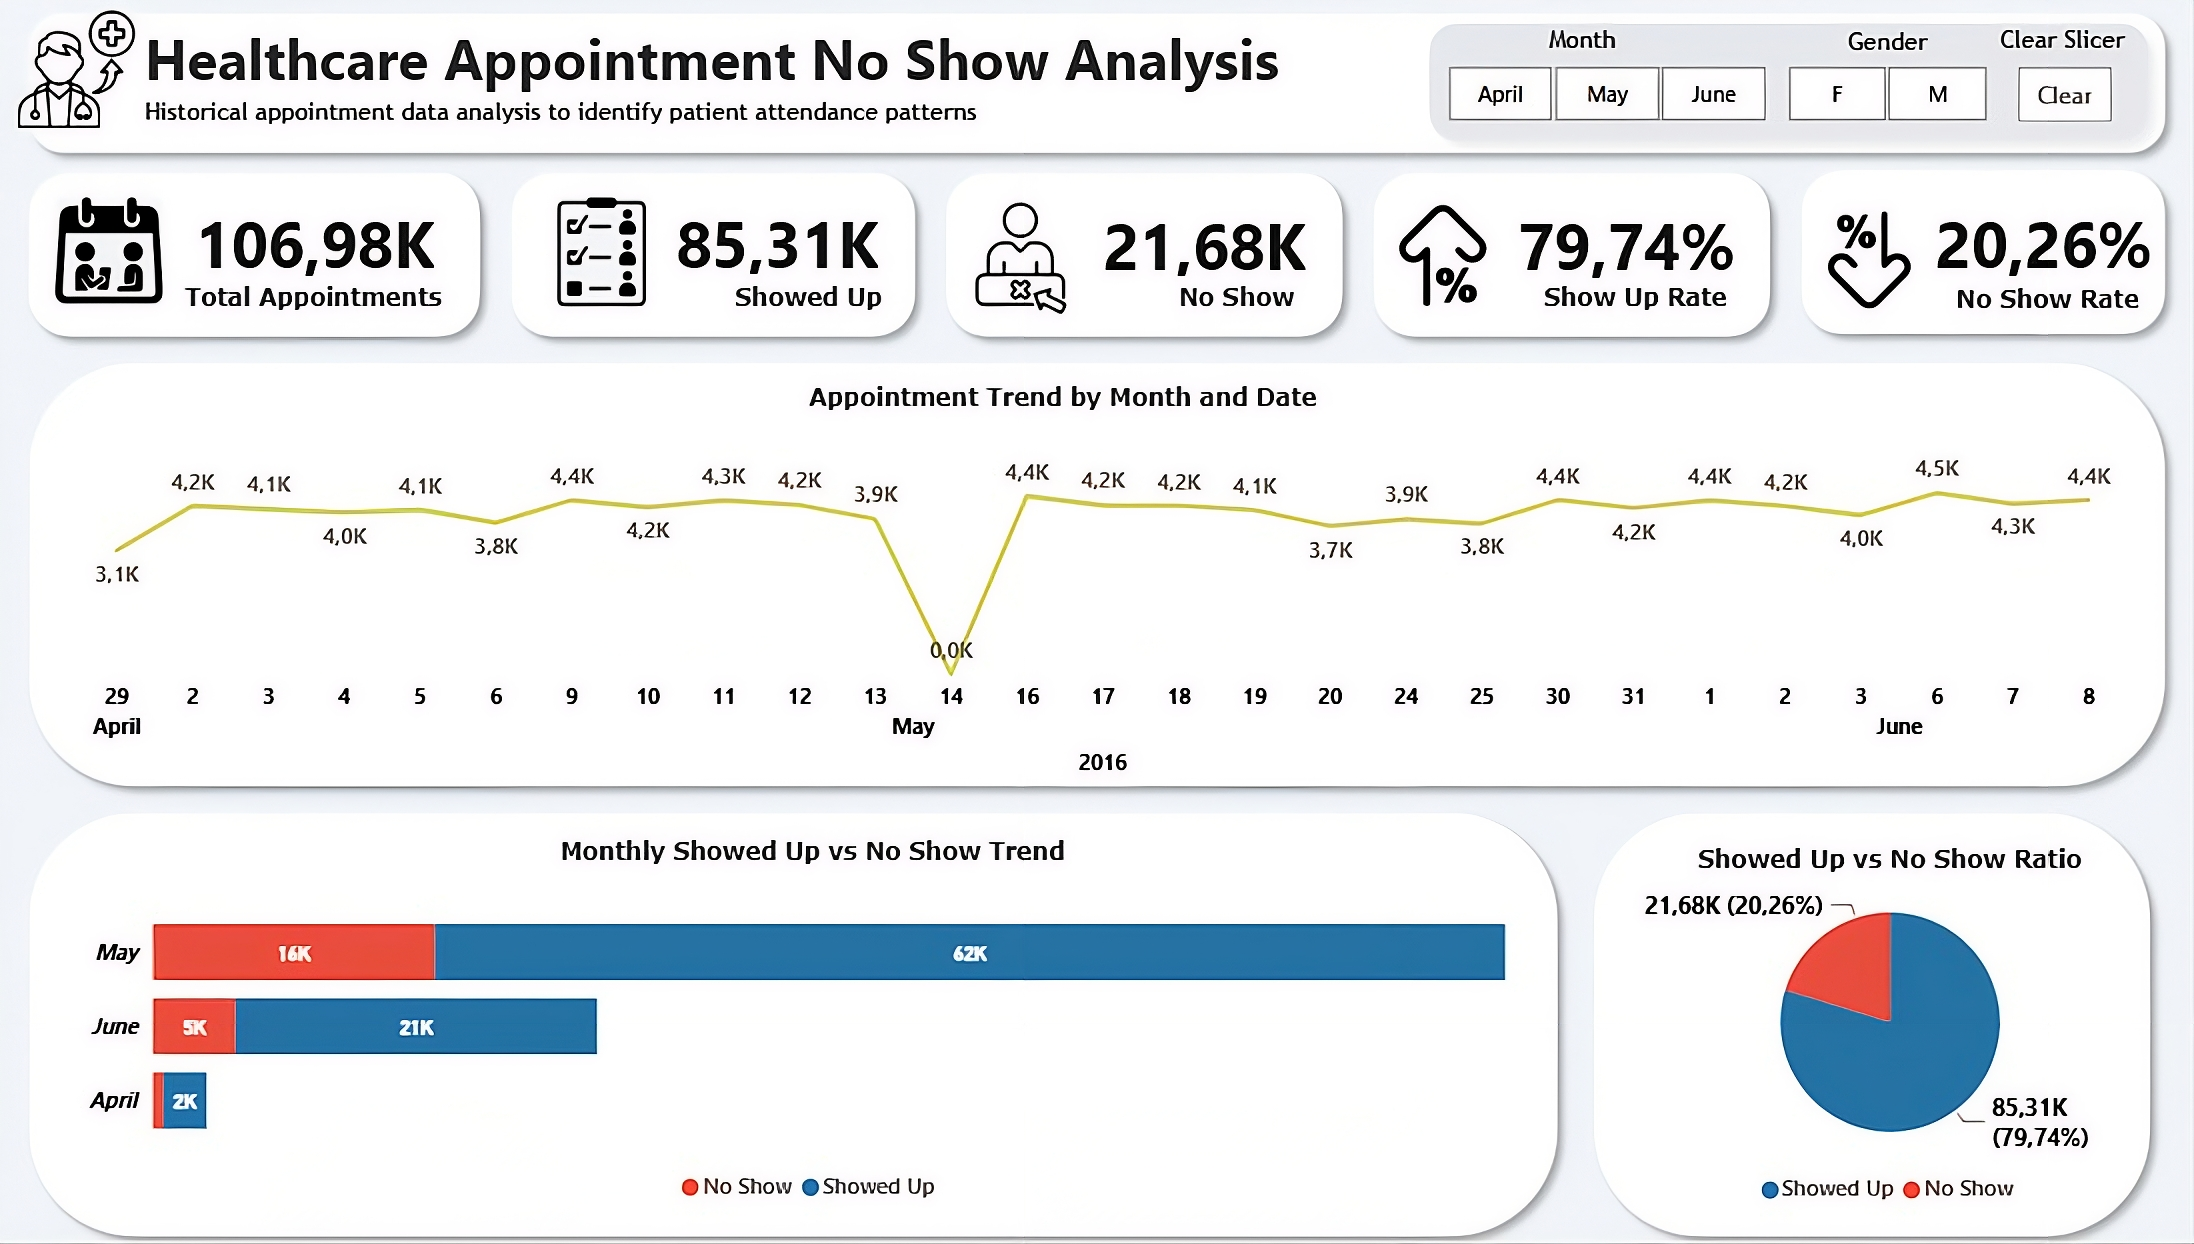

The page's visual inventory and layout, read from the dashboard file:
{"tool":"powerbi","page":{"name":"Executive Overview","canvas":[1280,720],"ordinal":0},"visuals":[{"type":"shape","title":"Shape Title","box":[14.7,2.4,1238.7,97.8],"z":0},{"type":"shape","title":"Chart Shape","box":[14.3,460,891.4,260],"z":1000},{"type":"shape","title":"Showedup shape","box":[782.9,94.3,244.3,111.4],"z":2000},{"type":"shape","title":"Dinut Shape","box":[908.6,460,335.7,260],"z":3000},{"type":"shape","title":"Total Showedup Shape","box":[290,94.3,248.6,111.4],"z":4000},{"type":"shape","title":"No ShowShape","box":[1027.1,92.9,225.7,111.4],"z":5000},{"type":"shape","title":"No Show Shape","box":[538.6,94.3,244.3,111.4],"z":6000},{"type":"shape","title":"Total Appointm Shape","box":[14.3,94.3,275.7,111.4],"z":7000},{"type":"shape","title":"Line Shape","box":[14.3,202.9,1238.6,260],"z":8000},{"type":"cardVisual","title":"Total Appointment","fields":{"Data":["CountNonNull(healthcare_appointment healthcare_noshows_clean.appointmentday)"]},"box":[30,94.3,254.3,94.3],"z":9000},{"type":"cardVisual","fields":{"Data":["CountNonNull(healthcare_appointment healthcare_noshows_clean.showedup)"]},"box":[355.7,104.3,182.9,74.3],"z":10000},{"type":"cardVisual","fields":{"Data":["CountNonNull(healthcare_appointment healthcare_noshows_clean.showedup)"]},"box":[600,105.7,182.9,74.3],"z":11000},{"type":"cardVisual","fields":{"Data":["healthcare_appointment healthcare_noshows_clean.Show-Up Rate"]},"box":[840,100,187.1,85.7],"z":12000},{"type":"cardVisual","fields":{"Data":["healthcare_appointment healthcare_noshows_clean.No Show Rate"]},"box":[1071.4,92.9,194.3,97.1],"z":13000},{"type":"lineChart","title":"Appointment Trend by Month and Date","fields":{"Y":["CountNonNull(healthcare_appointment healthcare_noshows_clean.PatientId)"],"Category":["healthcare_appointment healthcare_noshows_clean.appointmentday.Variation.Date Hierarchy.Year","healthcare_appointment healthcare_noshows_clean.appointmentday.Variation.Date Hierarchy.Month","healthcare_appointment healthcare_noshows_clean.appointmentday.Variation.Date Hierarchy.Day"]},"box":[51.4,238.6,1171.4,224.3],"z":14000},{"type":"pieChart","title":"Showed Up vs No Show Ratio","fields":{"Category":["healthcare_appointment healthcare_noshows_clean.showedup"],"Y":["CountNonNull(healthcare_appointment healthcare_noshows_clean.showedup)"]},"box":[908.6,502.9,357.1,200],"z":15000},{"type":"barChart","title":"Monthly Patient Attendance vs No Show Trend by Month and showedup","fields":{"Category":["healthcare_appointment healthcare_noshows_clean.appointmentday.Variation.Date Hierarchy.Month"],"Series":["healthcare_appointment healthcare_noshows_clean.showedup"],"Y":["CountNonNull(healthcare_appointment healthcare_noshows_clean.AppointmentID)"]},"box":[51.4,502.9,838.6,198.6],"z":16000},{"type":"textbox","box":[84.4,11,666.4,77],"z":17000},{"type":"image","box":[0,4.9,99,85.6],"z":18000},{"type":"image","box":[35.7,117.1,65.7,61.4],"z":19000},{"type":"shape","title":"slicer","box":[814.1,8.1,429.9,86],"z":20000},{"type":"textbox","title":"Text Totalapointment","box":[84.3,160,180,42.9],"z":21000},{"type":"image","box":[308.6,114.3,84.3,68.6],"z":22000},{"type":"textbox","title":"Texr Showed up","box":[398.6,160,117.1,30],"z":23000},{"type":"textbox","title":"Texr Showed up","box":[634.3,160,117.1,28.6],"z":24000},{"type":"image","box":[544.3,117.1,90,70],"z":25000},{"type":"image","box":[785.7,115.7,88.6,72.9],"z":26000},{"type":"textbox","title":"Texr Showed up","box":[881.4,160,117.1,28.6],"z":27000},{"type":"textbox","title":"Texr Showed up","box":[1117.1,161.4,117.1,28.6],"z":28000},{"type":"image","box":[1027.1,114.3,90,70],"z":29000},{"type":"textbox","title":"Text Totalapointment","box":[460,217.1,304.3,42.9],"z":30000},{"type":"textbox","title":"Text Totalapointment","box":[971.4,481.4,230,42.9],"z":31000},{"type":"textbox","title":"Text Totalapointment","box":[182.5,477.5,576.2,42.5],"z":32000},{"type":"slicer","fields":{"Values":["healthcare_appointment healthcare_noshows_clean.Gender"]},"box":[1002.9,35.7,162.9,44.3],"z":33000},{"type":"textbox","title":"Text Totalapointment","box":[1040.7,13.6,87.9,36.4],"z":34000},{"type":"textbox","title":"Text Totalapointment","box":[869.2,13.4,84.6,37.6],"z":35000},{"type":"slicer","fields":{"Values":["healthcare_appointment healthcare_noshows_clean.appointmentday.Variation.Date Hierarchy.Month"]},"box":[808.7,36.3,231.1,44.3],"z":36000},{"type":"actionButton","box":[1159.3,42.1,53.6,31.4],"z":37000},{"type":"textbox","title":"Text Totalapointment","box":[1142.1,12.9,87.9,36.4],"z":38000}]}

Visuals, with their boxes in screenshot pixels (x1, y1, x2, y2), scaled from the page's 1280x720 canvas onto the 2194x1244 screenshot:
"Shape Title" shape: bbox=(25, 4, 2148, 173)
"Chart Shape" shape: bbox=(25, 795, 1552, 1243)
"Showedup shape" shape: bbox=(1342, 163, 1761, 355)
"Dinut Shape" shape: bbox=(1557, 795, 2133, 1243)
"Total Showedup Shape" shape: bbox=(497, 163, 923, 355)
"No ShowShape" shape: bbox=(1761, 161, 2147, 353)
"No Show Shape" shape: bbox=(923, 163, 1342, 355)
"Total Appointm Shape" shape: bbox=(25, 163, 497, 355)
"Line Shape" shape: bbox=(25, 351, 2148, 800)
"Total Appointment" cardVisual: bbox=(51, 163, 487, 326)
cardVisual - CountNonNull(healthcare_appointment healthcare_noshows_clean.showedup): bbox=(610, 180, 923, 309)
cardVisual - CountNonNull(healthcare_appointment healthcare_noshows_clean.showedup): bbox=(1028, 183, 1342, 311)
cardVisual - healthcare_appointment healthcare_noshows_clean.Show-Up Rate: bbox=(1440, 173, 1761, 321)
cardVisual - healthcare_appointment healthcare_noshows_clean.No Show Rate: bbox=(1836, 161, 2169, 328)
"Appointment Trend by Month and Date" lineChart: bbox=(88, 412, 2096, 800)
"Showed Up vs No Show Ratio" pieChart: bbox=(1557, 869, 2169, 1214)
"Monthly Patient Attendance vs No Show Trend by Month and showedup" barChart: bbox=(88, 869, 1526, 1212)
textbox: bbox=(145, 19, 1287, 152)
image: bbox=(0, 8, 170, 156)
image: bbox=(61, 202, 174, 308)
"slicer" shape: bbox=(1395, 14, 2132, 163)
"Text Totalapointment" textbox: bbox=(144, 276, 453, 351)
image: bbox=(529, 197, 673, 316)
"Texr Showed up" textbox: bbox=(683, 276, 884, 328)
"Texr Showed up" textbox: bbox=(1087, 276, 1288, 326)
image: bbox=(933, 202, 1087, 323)
image: bbox=(1347, 200, 1499, 326)
"Texr Showed up" textbox: bbox=(1511, 276, 1711, 326)
"Texr Showed up" textbox: bbox=(1915, 279, 2115, 328)
image: bbox=(1761, 197, 1915, 318)
"Text Totalapointment" textbox: bbox=(788, 375, 1310, 449)
"Text Totalapointment" textbox: bbox=(1665, 832, 2059, 906)
"Text Totalapointment" textbox: bbox=(313, 825, 1300, 898)
slicer - healthcare_appointment healthcare_noshows_clean.Gender: bbox=(1719, 62, 1998, 138)
"Text Totalapointment" textbox: bbox=(1784, 23, 1934, 86)
"Text Totalapointment" textbox: bbox=(1490, 23, 1635, 88)
slicer - healthcare_appointment healthcare_noshows_clean.appointmentday.Variation.Date Hierarchy.Month: bbox=(1386, 63, 1782, 139)
actionButton: bbox=(1987, 73, 2079, 127)
"Text Totalapointment" textbox: bbox=(1958, 22, 2108, 85)
